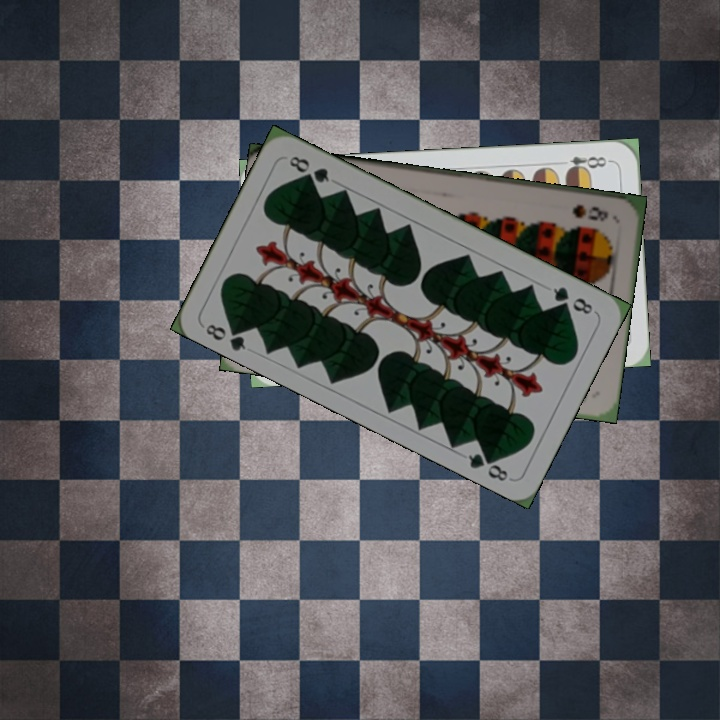E8: (562, 152, 613, 176)
G8: (199, 318, 249, 354), (548, 282, 596, 317)
S8: (568, 200, 611, 224)
